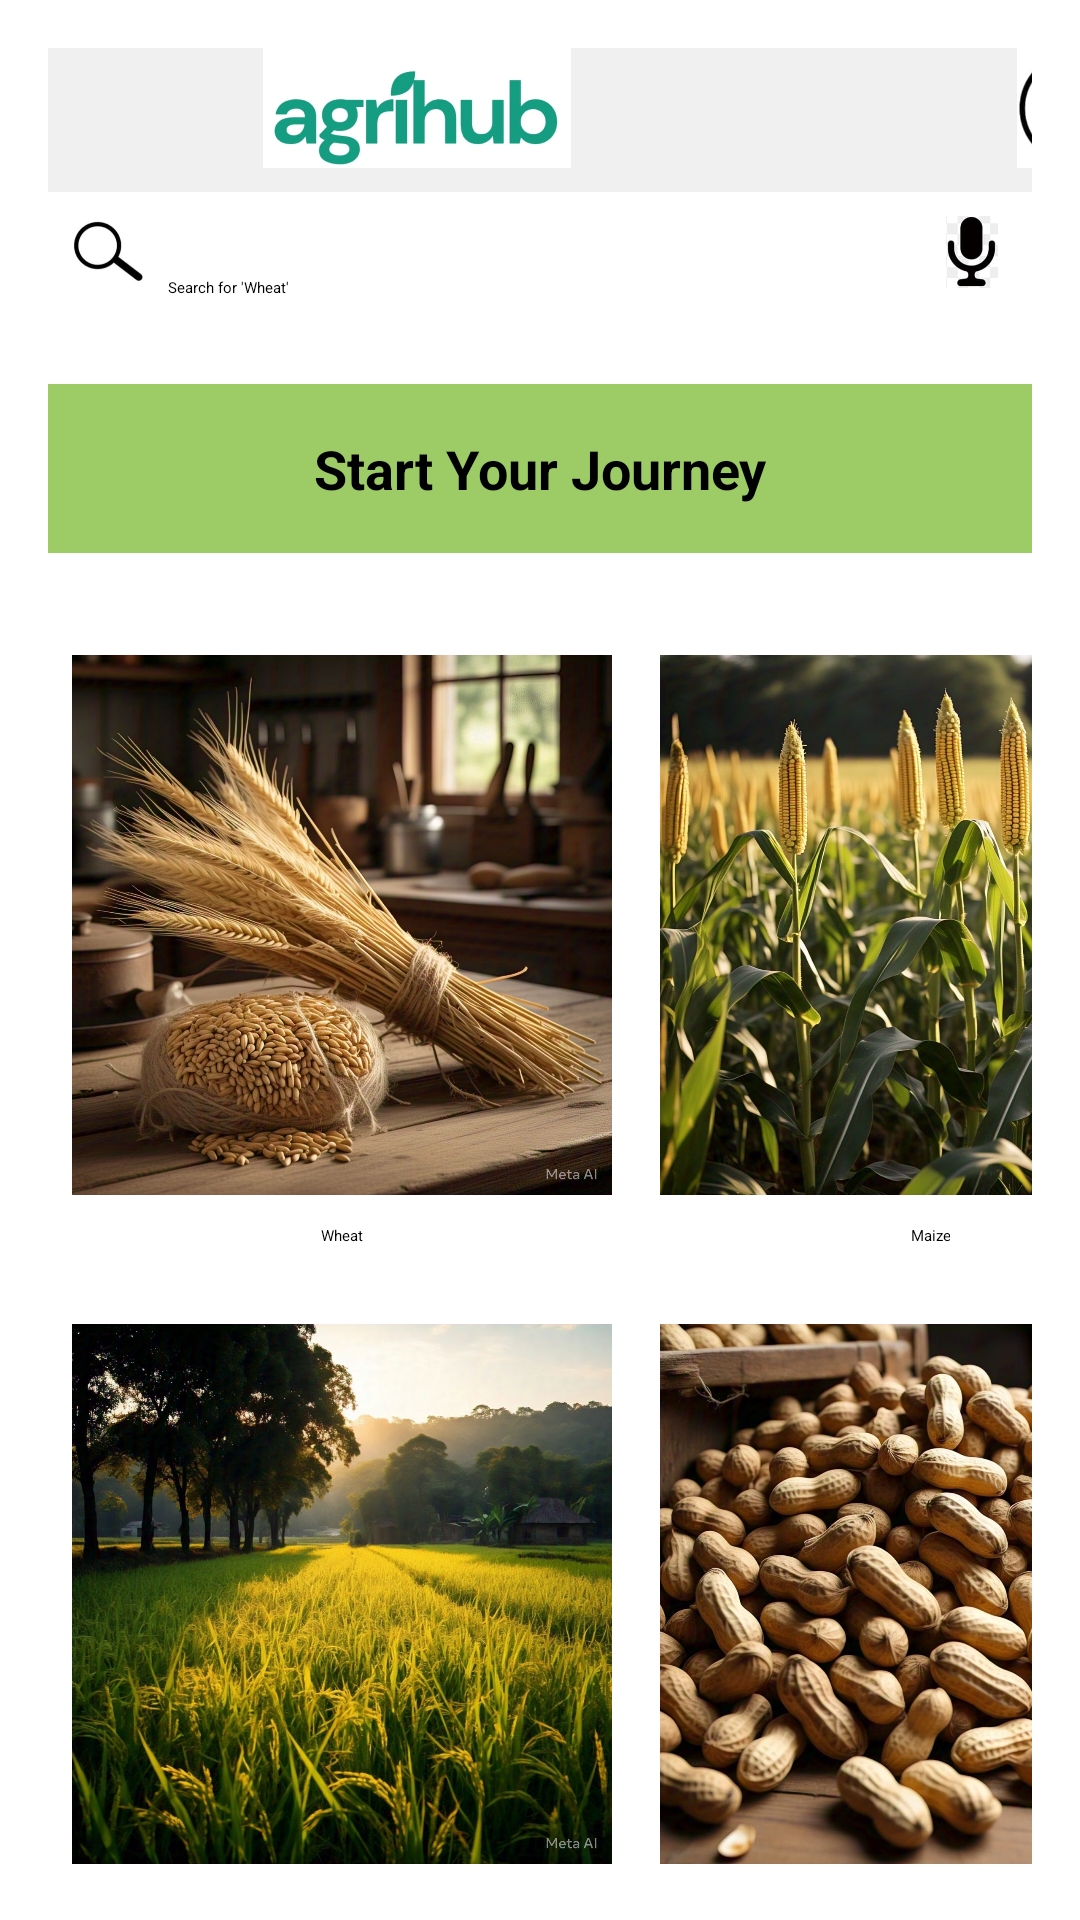

Icons on this 1080px x 1920px Android screen, each with its box as [x1=x1, y1=y1, x2=x2, y2=y2]:
Microphone Icon: [x1=947, y1=217, x2=996, y2=287]
